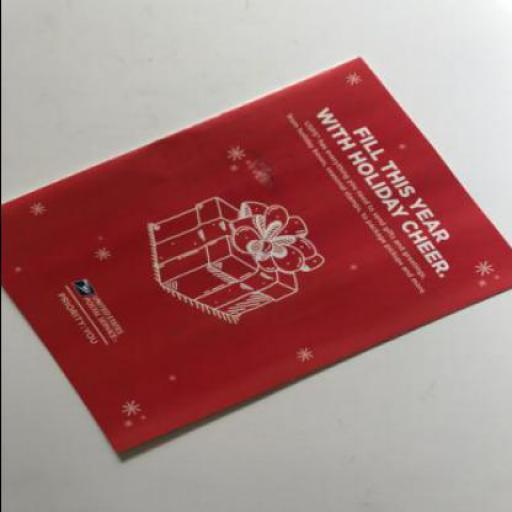paper: (1, 55, 511, 453)
